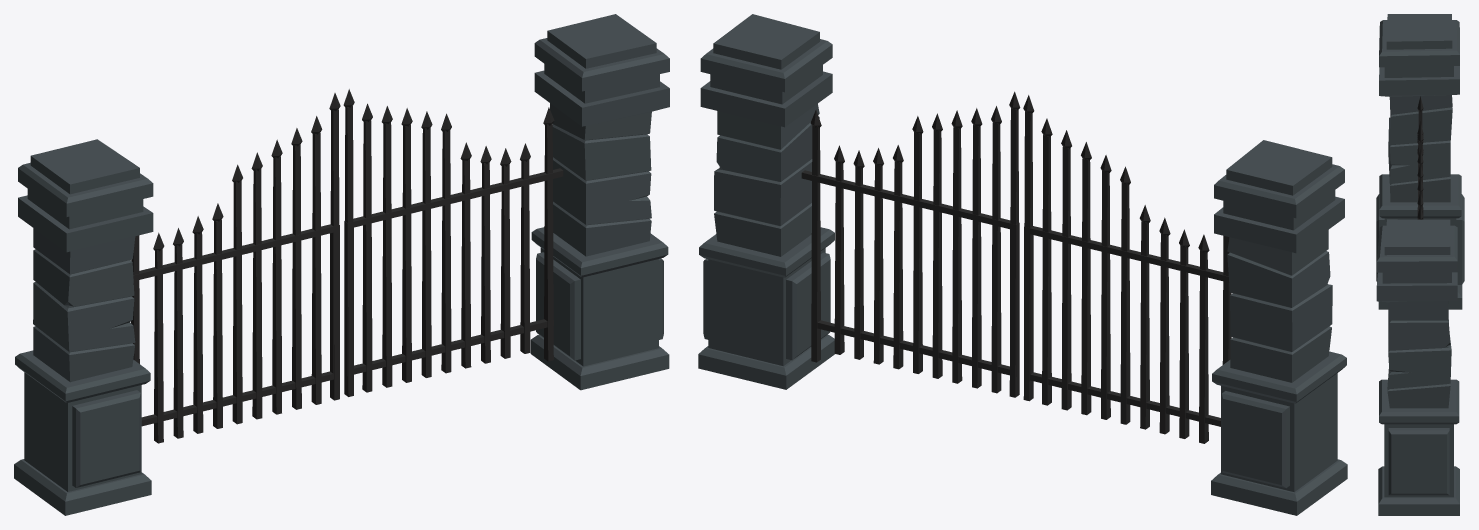
File: gate_fencepost.fbx
3 views of the same model, side by side, from view 1: azimuth 30°, elevation 25°; view 2: azimuth 150°, elevation 25°; view 3: azimuth 270°, elevation 25° (orthographic). The views are drawn at different scales.
Visible parts, largest first — view 1: fencepost, fence; view 2: fencepost, fence; view 3: fencepost, fence.
Boxes of the visible parts, x1,y1,x2,y2 form: fencepost: (14, 14, 669, 515); fence: (131, 89, 563, 443); fencepost: (698, 14, 1347, 515); fence: (801, 91, 1231, 443); fencepost: (1376, 14, 1464, 515); fence: (1417, 96, 1423, 219).
Bounding box in the file's own units: 4.69 × 2.46 × 0.7251.
